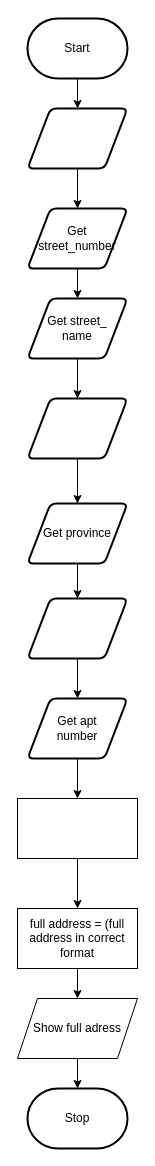
Image size: 155x1166. Some labels were removed from this diagram. Each missing label, with the centre of its shape:
apt_number = none: pixel 77 828
Get city: pixel 77 428
Get name: pixel 77 138
Get postal code: pixel 77 628
